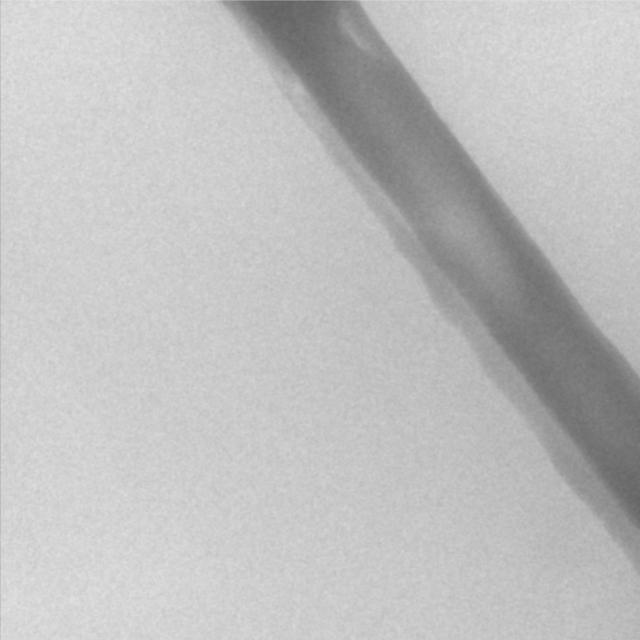unfused: (414, 168, 536, 312), (338, 11, 380, 55)
